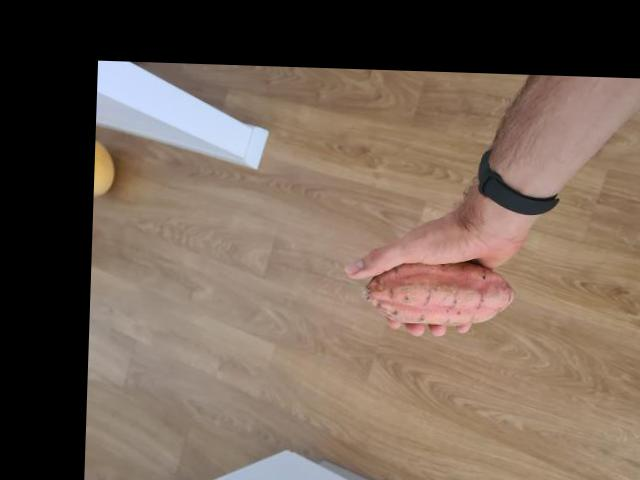sweet_potato: (366, 253, 516, 329)
